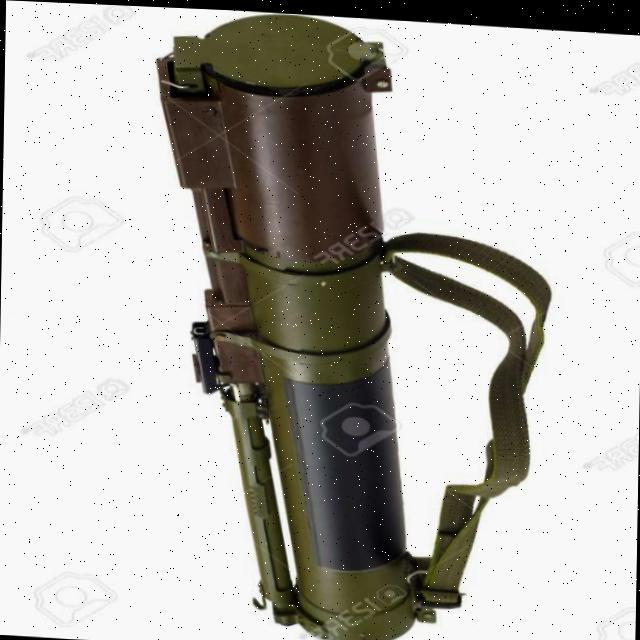rocket: (100, 3, 575, 640)
